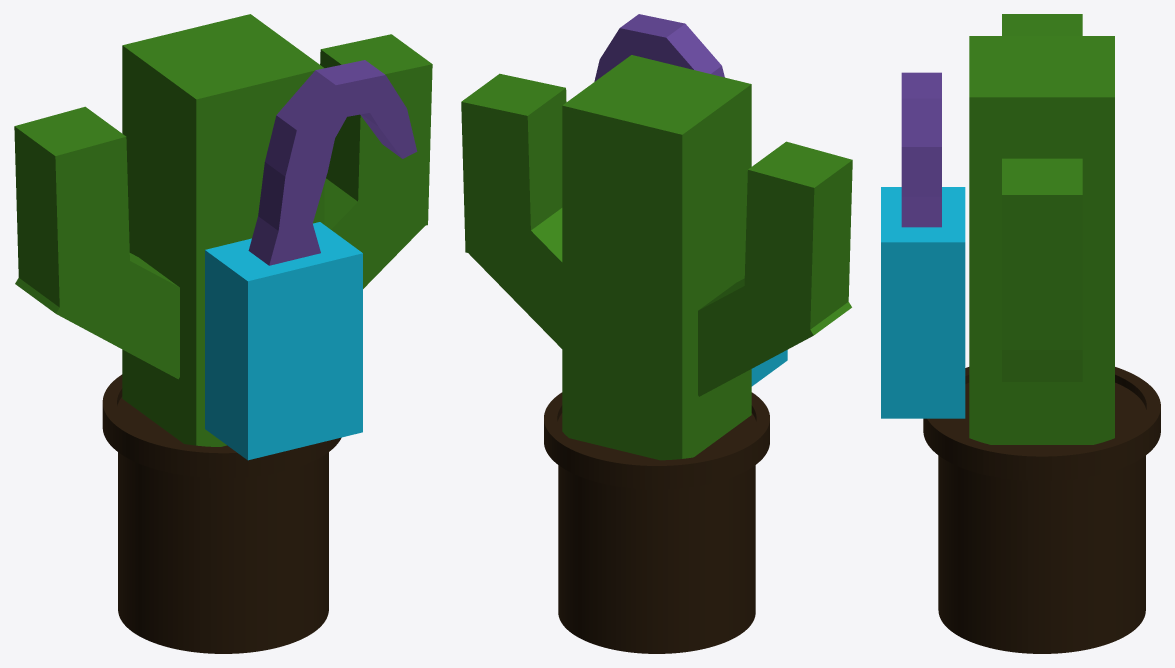
Rendered from Cactos_low poly_oficial.fbx.
3 renders of one model, left to right at view 1: azimuth 30°, elevation 25°; view 2: azimuth 150°, elevation 25°; view 3: azimuth 270°, elevation 25°, orthographic. The views are drawn at different scales.
Visible parts, largest first — view 1: Cube, Cube.001, Cube.002; view 2: Cube, Cube.002; view 3: Cube, Cube.001, Cube.002.
Part boxes in pixels (bbox=[...]): Cube: bbox=[14, 14, 432, 653]; Cube.001: bbox=[205, 222, 362, 460]; Cube.002: bbox=[248, 60, 417, 265]; Cube: bbox=[461, 55, 852, 653]; Cube.002: bbox=[594, 14, 724, 81]; Cube: bbox=[923, 14, 1160, 653]; Cube.001: bbox=[881, 187, 965, 418]; Cube.002: bbox=[901, 72, 941, 227].
Size of the model in its own units: 289 by 415 by 189.
